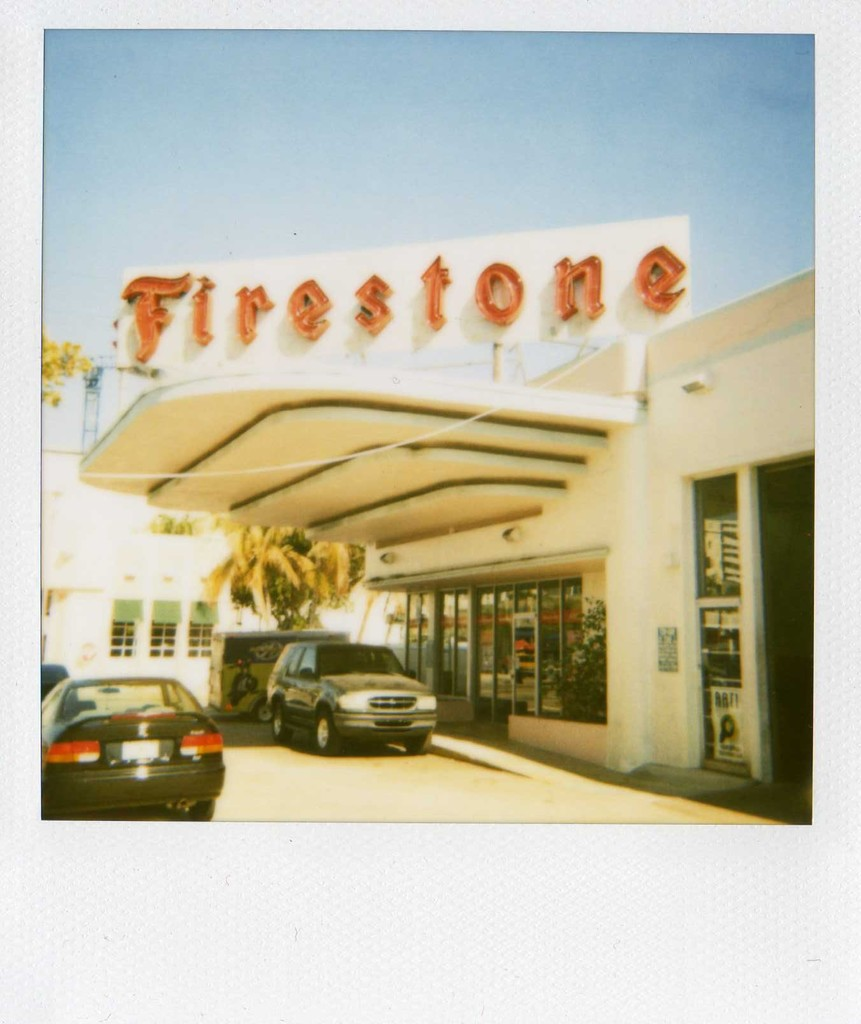Car: (38, 668, 226, 821), (263, 638, 438, 756)
